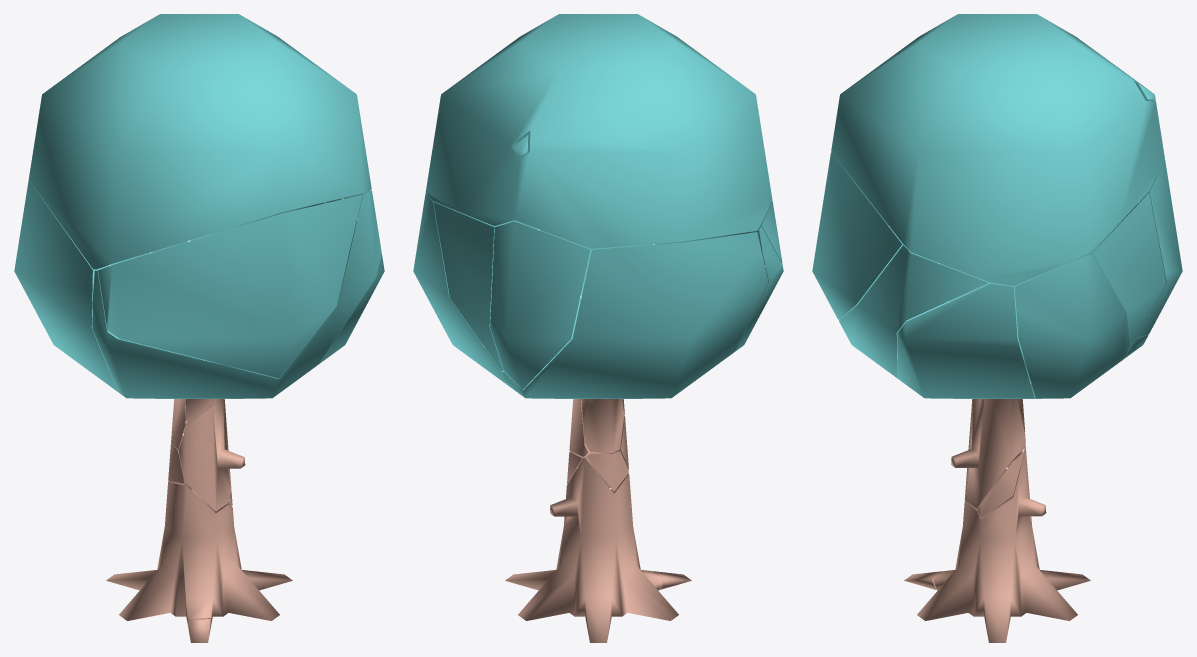
File: tree_oak_dark_fracture.fbx
3 renders of one model, left to right at view 1: azimuth 30°, elevation 25°; view 2: azimuth 150°, elevation 25°; view 3: azimuth 270°, elevation 25°, orthographic.
Parts seen in each view (by area): view 1: tree_oak_dark_cell.005, tree_oak_dark_cell.007, tree_oak_dark_cell.012, tree_oak_dark_cell.004, tree_oak_dark_cell.016, tree_oak_dark_cell.009; view 2: tree_oak_dark_cell.005, tree_oak_dark_cell.016, tree_oak_dark_cell.004, tree_oak_dark_cell.015, tree_oak_dark_cell.002, tree_oak_dark_cell.018, tree_oak_dark_cell.012, tree_oak_dark_cell.009, tree_oak_dark_cell.010, tree_oak_dark_cell.007; view 3: tree_oak_dark_cell.005, tree_oak_dark_cell.009, tree_oak_dark_cell.004, tree_oak_dark_cell.018, tree_oak_dark_cell.007, tree_oak_dark_cell.012, tree_oak_dark_cell.002, tree_oak_dark_cell.015, tree_oak_dark_cell.013, tree_oak_dark_cell.016.
Boxes of the visible parts, bbox=[...] form: tree_oak_dark_cell.005: bbox=[29, 14, 371, 269]; tree_oak_dark_cell.007: bbox=[98, 194, 362, 378]; tree_oak_dark_cell.012: bbox=[92, 190, 381, 424]; tree_oak_dark_cell.004: bbox=[106, 453, 292, 625]; tree_oak_dark_cell.016: bbox=[14, 180, 202, 449]; tree_oak_dark_cell.009: bbox=[179, 198, 384, 511]; tree_oak_dark_cell.005: bbox=[425, 14, 772, 248]; tree_oak_dark_cell.016: bbox=[502, 232, 768, 452]; tree_oak_dark_cell.004: bbox=[505, 458, 678, 642]; tree_oak_dark_cell.015: bbox=[490, 221, 590, 389]; tree_oak_dark_cell.002: bbox=[433, 202, 503, 370]; tree_oak_dark_cell.018: bbox=[413, 193, 514, 383]; tree_oak_dark_cell.012: bbox=[511, 131, 783, 414]; tree_oak_dark_cell.009: bbox=[455, 210, 628, 487]; tree_oak_dark_cell.010: bbox=[586, 451, 628, 491]; tree_oak_dark_cell.007: bbox=[655, 201, 782, 265]; tree_oak_dark_cell.005: bbox=[831, 14, 1164, 285]; tree_oak_dark_cell.009: bbox=[897, 283, 1041, 508]; tree_oak_dark_cell.004: bbox=[917, 447, 1090, 642]; tree_oak_dark_cell.018: bbox=[1014, 254, 1130, 398]; tree_oak_dark_cell.007: bbox=[812, 152, 901, 319]; tree_oak_dark_cell.012: bbox=[839, 226, 988, 378]; tree_oak_dark_cell.002: bbox=[1092, 193, 1166, 343]; tree_oak_dark_cell.015: bbox=[1138, 160, 1182, 336]; tree_oak_dark_cell.013: bbox=[977, 451, 1024, 517]; tree_oak_dark_cell.016: bbox=[940, 202, 1148, 431].
Size of the model in its own units: 64.06 by 123 by 73.96.
